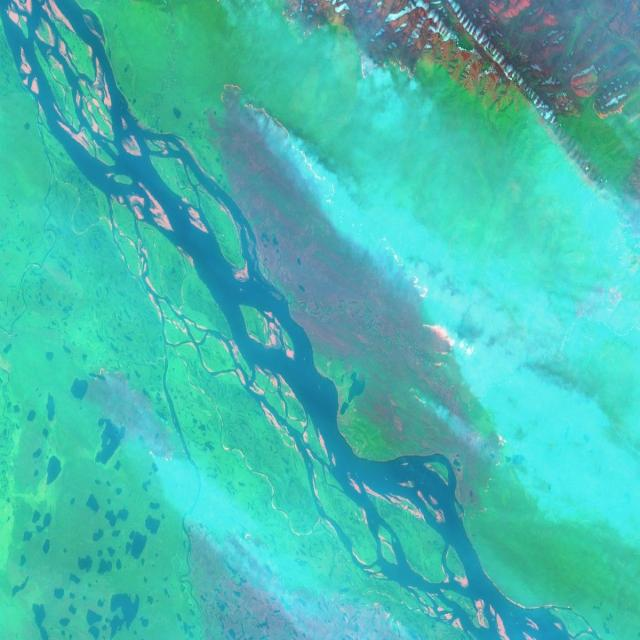fire: (208, 75, 474, 373), (275, 2, 420, 80)
